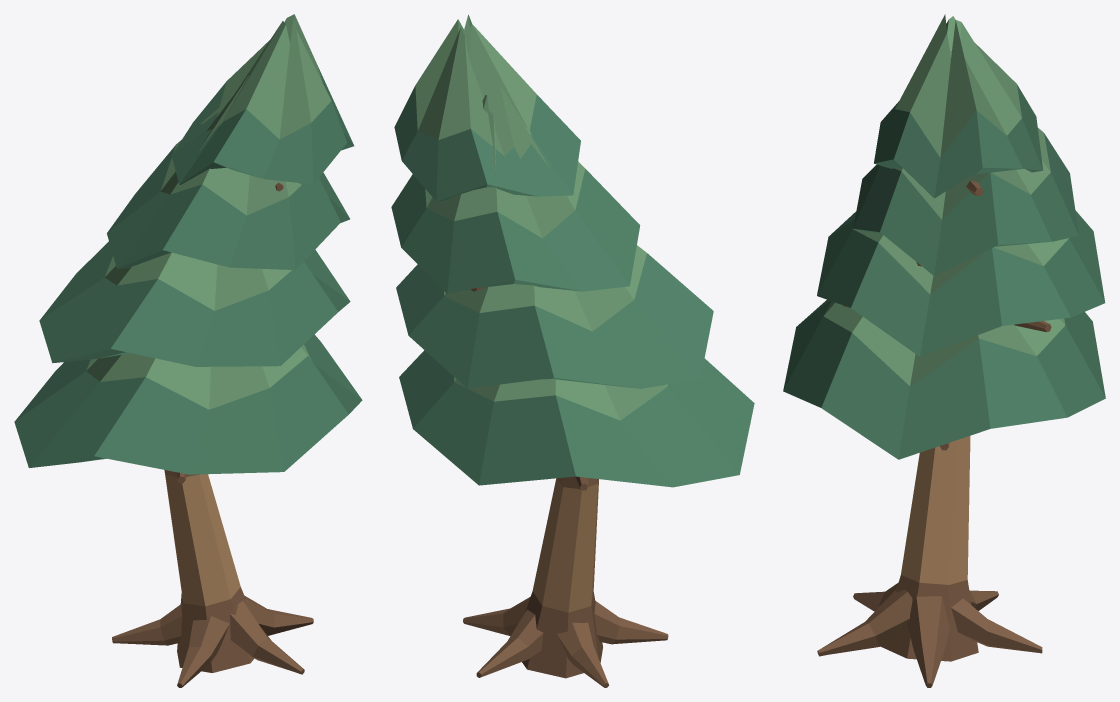
Rendered from windbent_pine.glb.
The picture shows the model from 3 angles, left to right: view 1: azimuth 30°, elevation 25°; view 2: azimuth 150°, elevation 25°; view 3: azimuth 270°, elevation 25°; orthographic projection. The views are drawn at different scales.
Parts seen in each view (by area): view 1: windbent_pine; view 2: windbent_pine; view 3: windbent_pine.
Boxes of the visible parts, <box> form: windbent_pine: <box>14,14,362,687</box>; windbent_pine: <box>391,14,754,687</box>; windbent_pine: <box>783,14,1105,687</box>.
Size of the model in its own units: 3.22 by 5.91 by 2.53.
